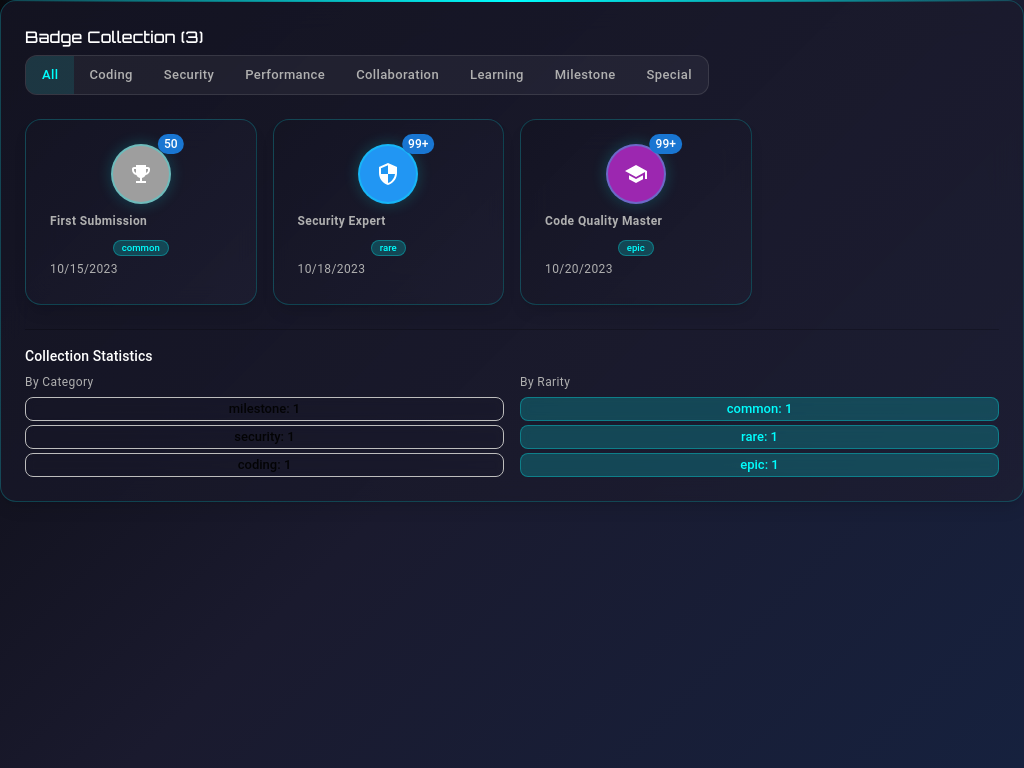
Test: BadgeShowcase › filters badges by category
This screenshot has width=1024, height=768.
What coordinates should you click on to do the following:
click the button "Security"
I would click on:
 (189, 75)
Its box is top-left (148, 56), bottom-right (230, 94).
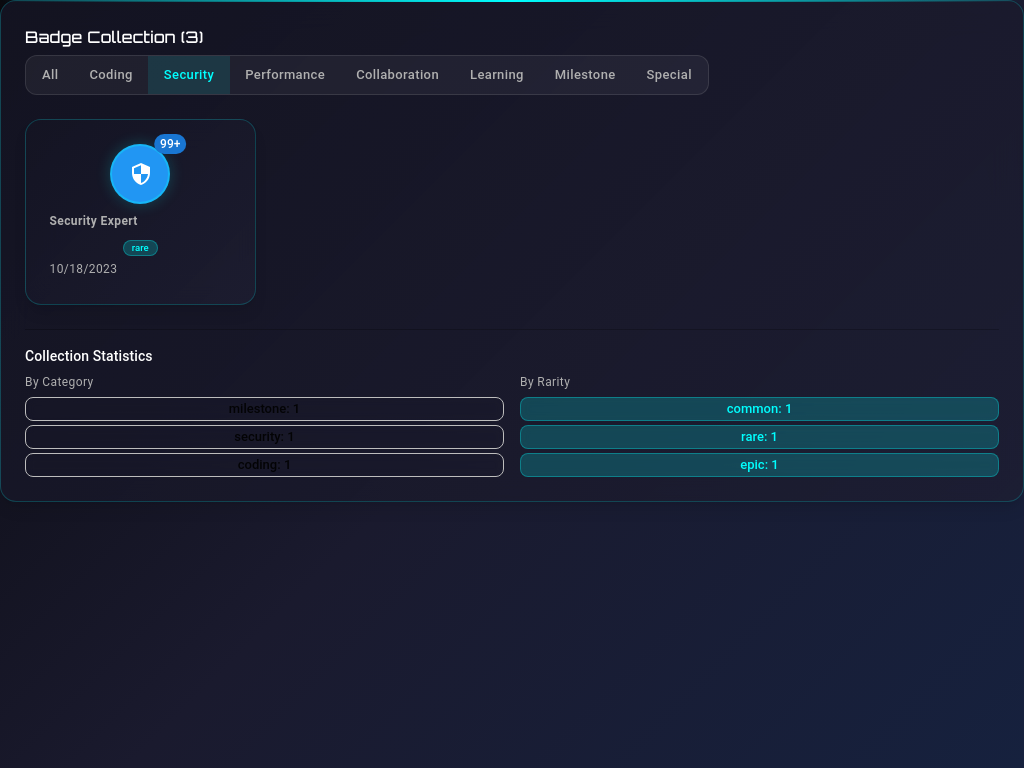
Expected: the text "Security Expert" is shown, top-left (50, 214), bottom-right (138, 228)
Now the text "First Submission" is gone
